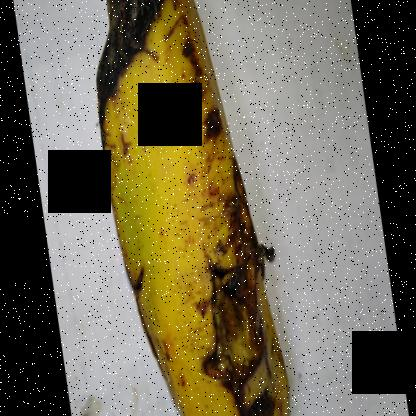ripe: (97, 127, 301, 415)
rotten: (169, 205, 301, 415), (82, 1, 216, 143)
